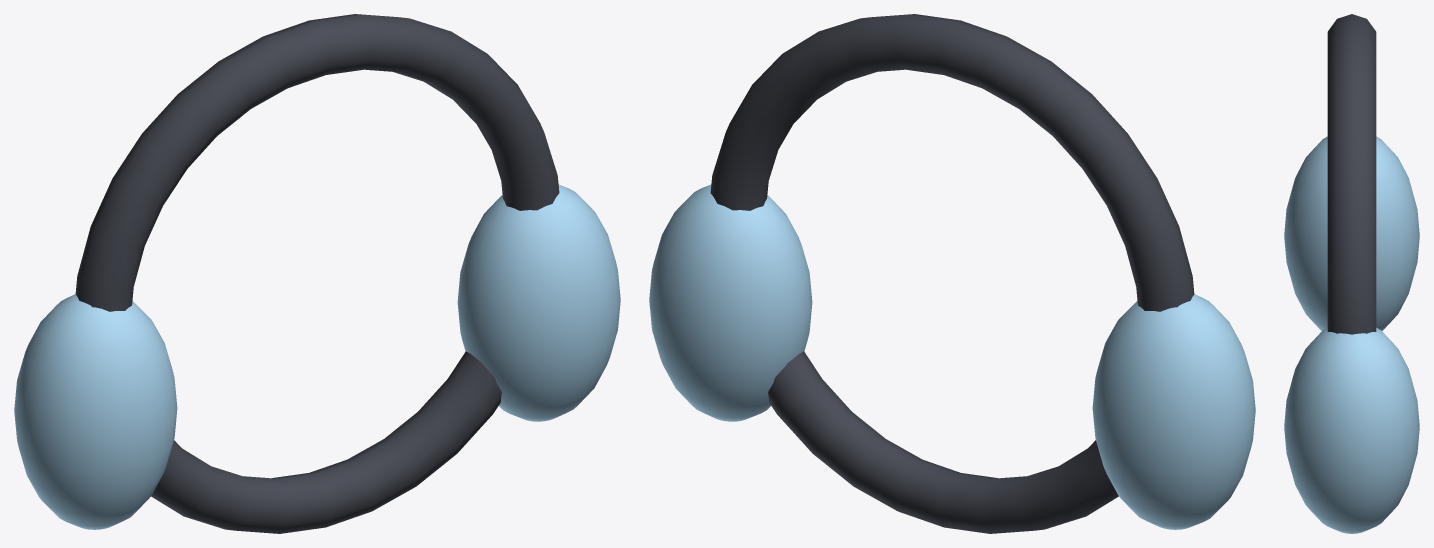
Rendered from officeHeadset.glb.
The picture shows the model from 3 angles, left to right: view 1: azimuth 30°, elevation 25°; view 2: azimuth 150°, elevation 25°; view 3: azimuth 270°, elevation 25°; orthographic projection. The views are drawn at different scales.
Parts seen in each view (by area): view 1: Headset band, Ear cup, Ear cup.001; view 2: Headset band, Ear cup, Ear cup.001; view 3: Ear cup.001, Headset band, Ear cup.
Part boxes in pixels (<box>): Headset band: <box>75,14,559,533</box>; Ear cup: <box>14,294,177,529</box>; Ear cup.001: <box>457,184,620,421</box>; Headset band: <box>710,14,1194,533</box>; Ear cup: <box>1092,294,1255,529</box>; Ear cup.001: <box>649,184,812,421</box>; Ear cup.001: <box>1284,327,1419,533</box>; Headset band: <box>1327,14,1376,334</box>; Ear cup: <box>1284,136,1419,330</box>.
Bounding box in the file's own units: 1.06 × 0.87 × 0.24.
